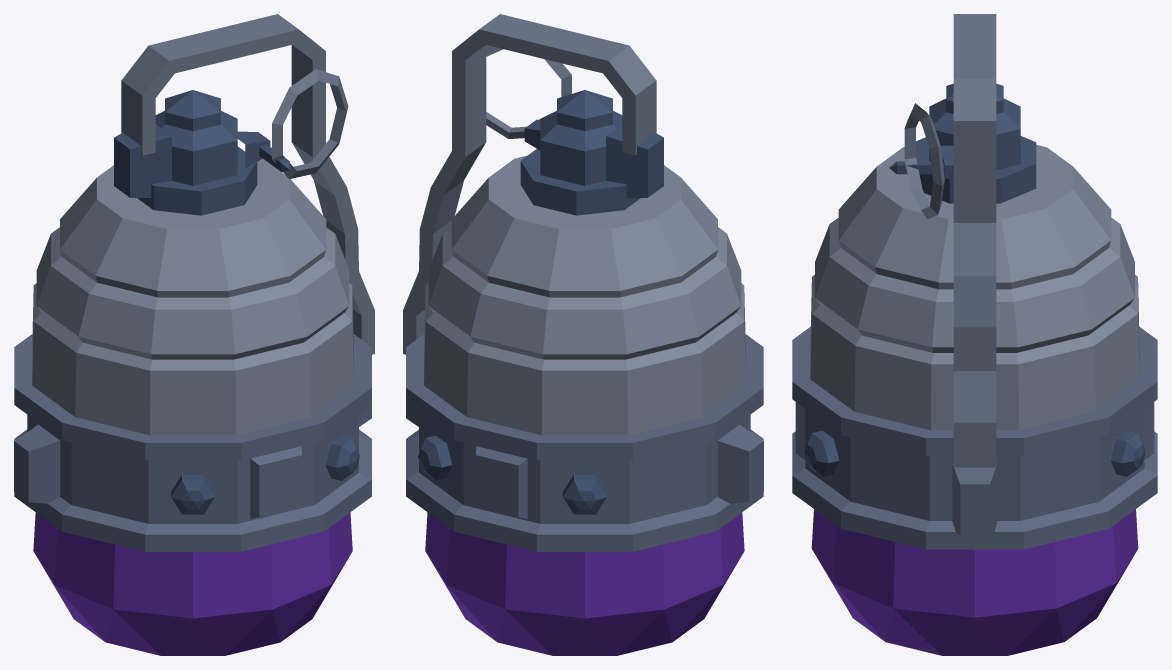
Rendered from throwable-capsule-380d70.glb.
3 views of the same model, side by side, from view 1: azimuth 30°, elevation 25°; view 2: azimuth 150°, elevation 25°; view 3: azimuth 270°, elevation 25° (orthographic). The views are drawn at different scales.
Parts seen in each view (by area): view 1: capsule-metal, capsule-crystal, lever-strap, pin-ring; view 2: capsule-metal, capsule-crystal, lever-strap, pin-ring; view 3: capsule-metal, capsule-crystal, lever-strap, pin-ring.
Boxes of the visible parts, <box> form: capsule-metal: <box>14,90,371,551</box>; capsule-crystal: <box>33,512,352,655</box>; lever-strap: <box>121,14,374,354</box>; pin-ring: <box>259,69,348,178</box>; capsule-metal: <box>406,90,763,551</box>; capsule-crystal: <box>425,512,744,655</box>; lever-strap: <box>403,14,656,354</box>; pin-ring: <box>486,45,571,138</box>; capsule-metal: <box>792,83,1157,549</box>; capsule-crystal: <box>811,509,1138,655</box>; lever-strap: <box>953,14,996,467</box>; pin-ring: <box>889,103,944,219</box>.
Bounding box in the file's own units: 0.1039 × 0.1698 × 0.0937.
